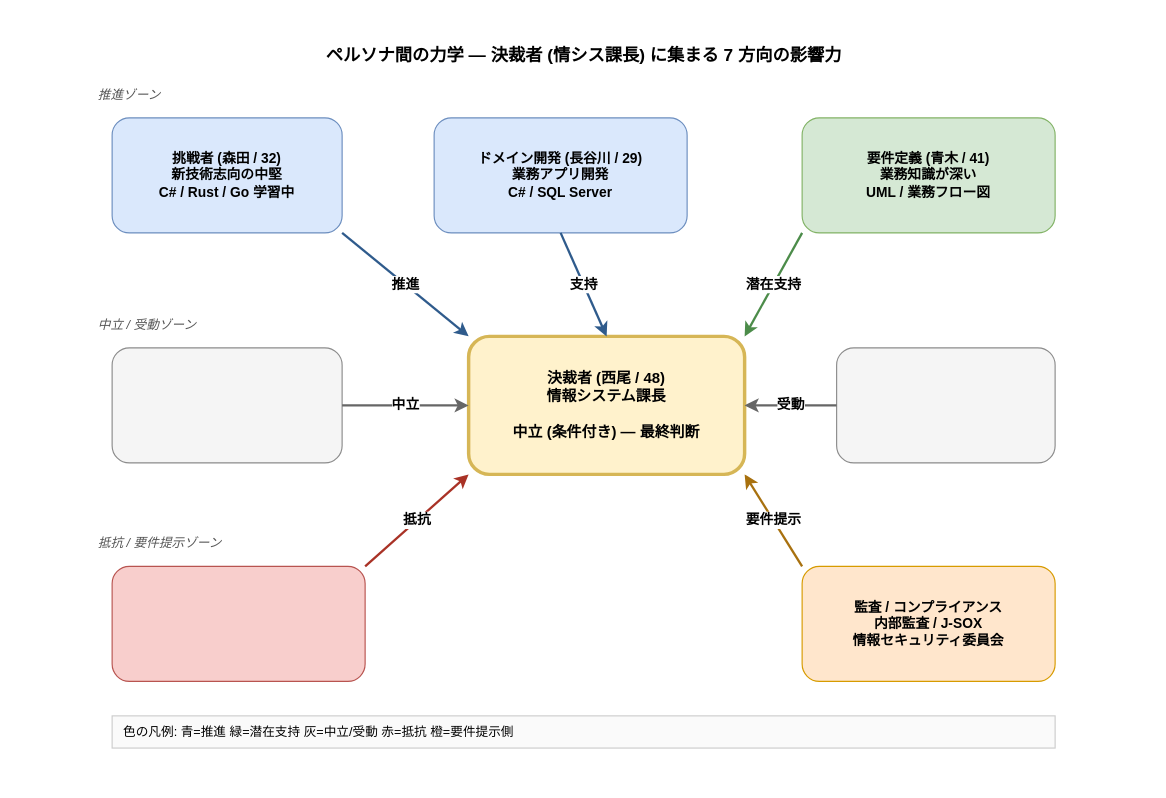
Image size: 1166x798. Some labels were removed from this diagram. The centre of each missing label's shape, as x and y in pixels:
"エンドユーザー 業務担当 IT リテラシ 中〜低" goes at pixel 945 405.
"守護者 (田辺 / 52) シニアエンジニア .NET Framework 歴 20 年" goes at pixel 238 623.
"運用 (石田 / 38) 運用リーダー Windows Server / Zabbix" goes at pixel 226 405.
